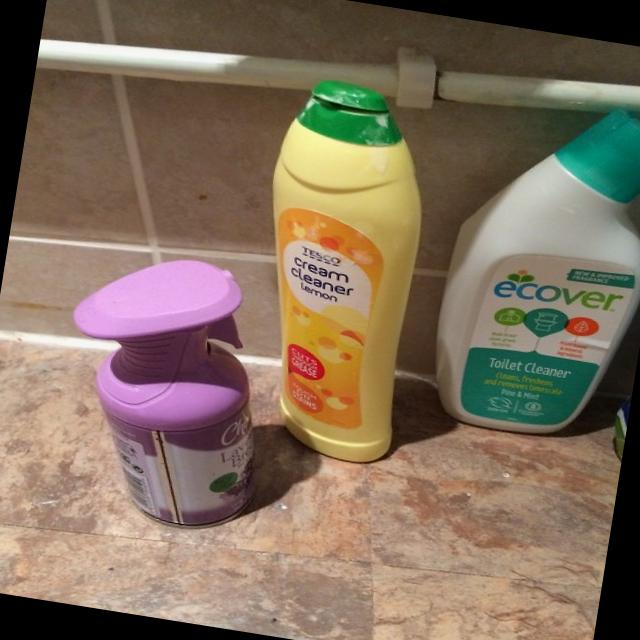Trash: (230, 74, 446, 467), (421, 82, 640, 449), (45, 242, 292, 540)
